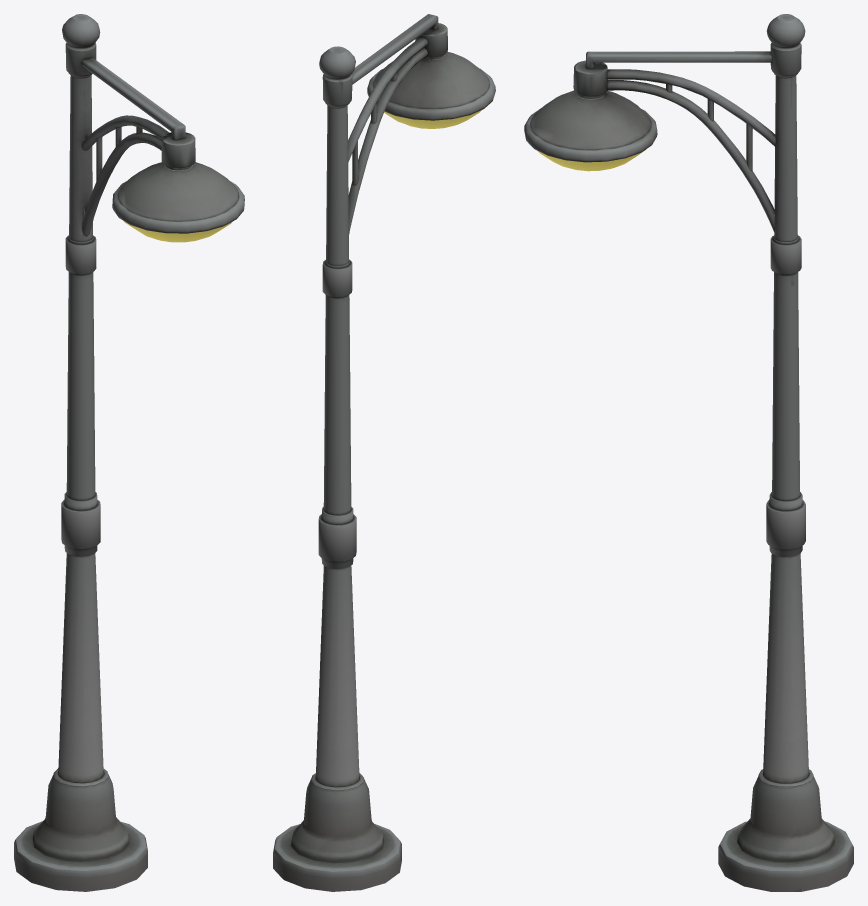
File: PRP_CanalLamp.glb
3 views of the same model, side by side, from view 1: azimuth 30°, elevation 25°; view 2: azimuth 150°, elevation 25°; view 3: azimuth 270°, elevation 25° (orthographic). The views are drawn at different scales.
Parts seen in each view (by area): view 1: SM_Street_Light_M_Street_Light_Pole_0, SM_Street_Light_M_Street_Light_Emission_0; view 2: SM_Street_Light_M_Street_Light_Pole_0, SM_Street_Light_M_Street_Light_Emission_0; view 3: SM_Street_Light_M_Street_Light_Pole_0, SM_Street_Light_M_Street_Light_Emission_0.
Boxes of the visible parts, x1=… form: SM_Street_Light_M_Street_Light_Pole_0: x1=14, y1=14, x2=244, y2=891; SM_Street_Light_M_Street_Light_Emission_0: x1=124, y1=221, x2=232, y2=242; SM_Street_Light_M_Street_Light_Pole_0: x1=273, y1=14, x2=495, y2=891; SM_Street_Light_M_Street_Light_Emission_0: x1=384, y1=109, x2=482, y2=128; SM_Street_Light_M_Street_Light_Pole_0: x1=524, y1=14, x2=853, y2=891; SM_Street_Light_M_Street_Light_Emission_0: x1=538, y1=149, x2=646, y2=171.
Size of the model in its own units: 0.4273 by 2.99 by 1.06.
Materials: 2 (2 with a texture image).
